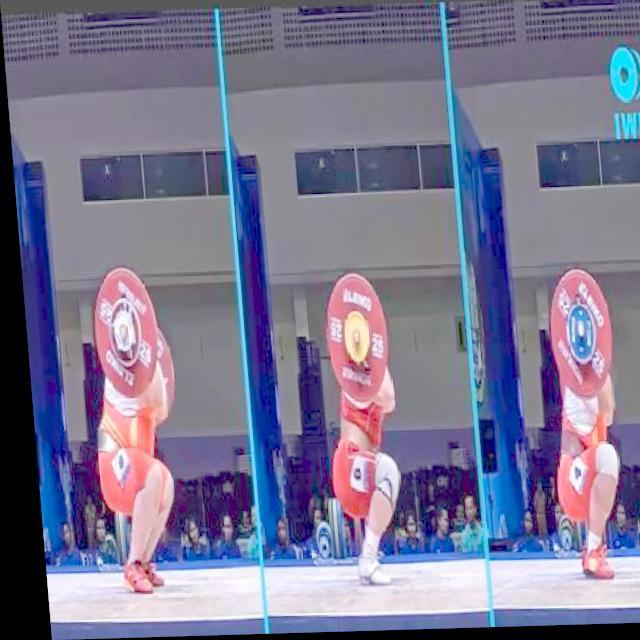barbell: (80, 264, 160, 400), (536, 265, 614, 404), (313, 273, 388, 409)
